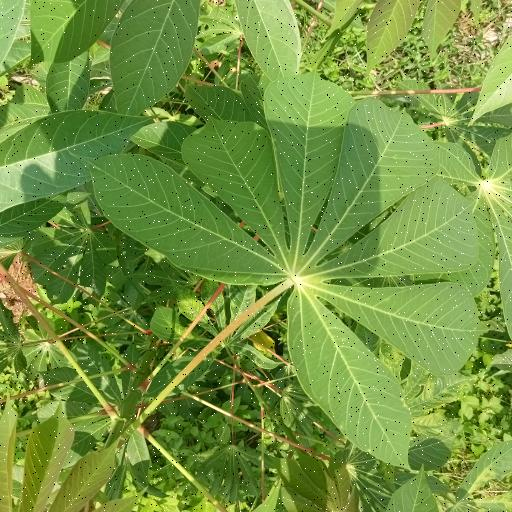Cassava_Healthy: (74, 84, 490, 446)
